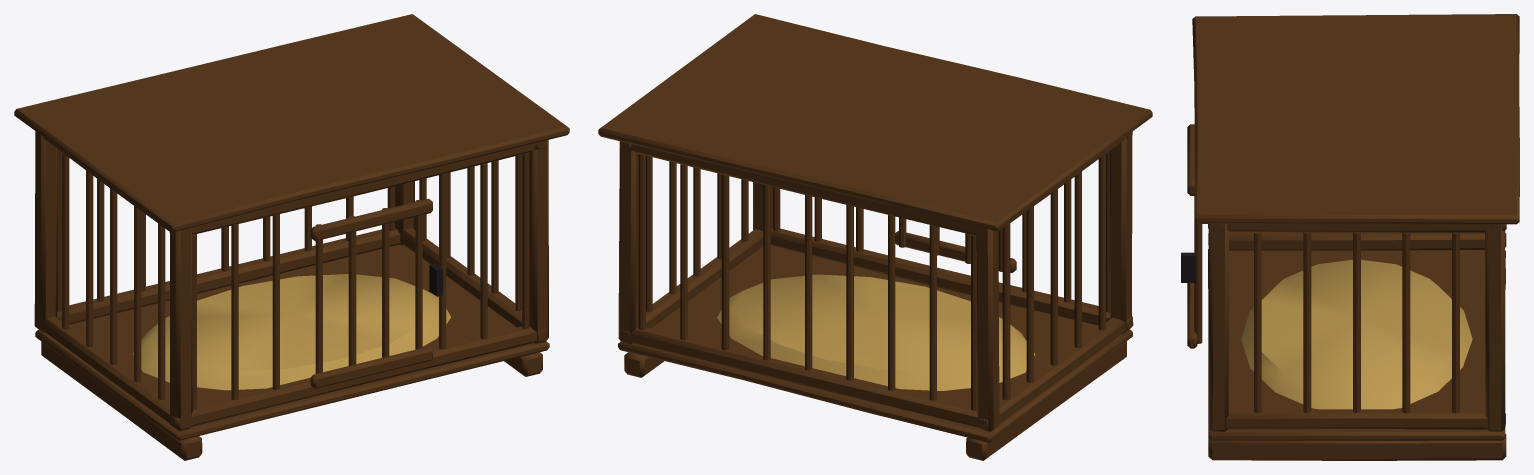
Rendered from huehnerkaefig.glb.
3 renders of one model, left to right at view 1: azimuth 30°, elevation 25°; view 2: azimuth 150°, elevation 25°; view 3: azimuth 270°, elevation 25°, orthographic. The views are drawn at different scales.
Parts seen in each view (by area): view 1: huehnerkaefig; view 2: huehnerkaefig; view 3: huehnerkaefig.
Part boxes in pixels (box(x1,y1,x2,y2)): huehnerkaefig: box(14, 14, 569, 460); huehnerkaefig: box(598, 14, 1152, 460); huehnerkaefig: box(1181, 14, 1519, 460).
Bounding box in the file's own units: 0.9654 × 0.5734 × 0.6841.
